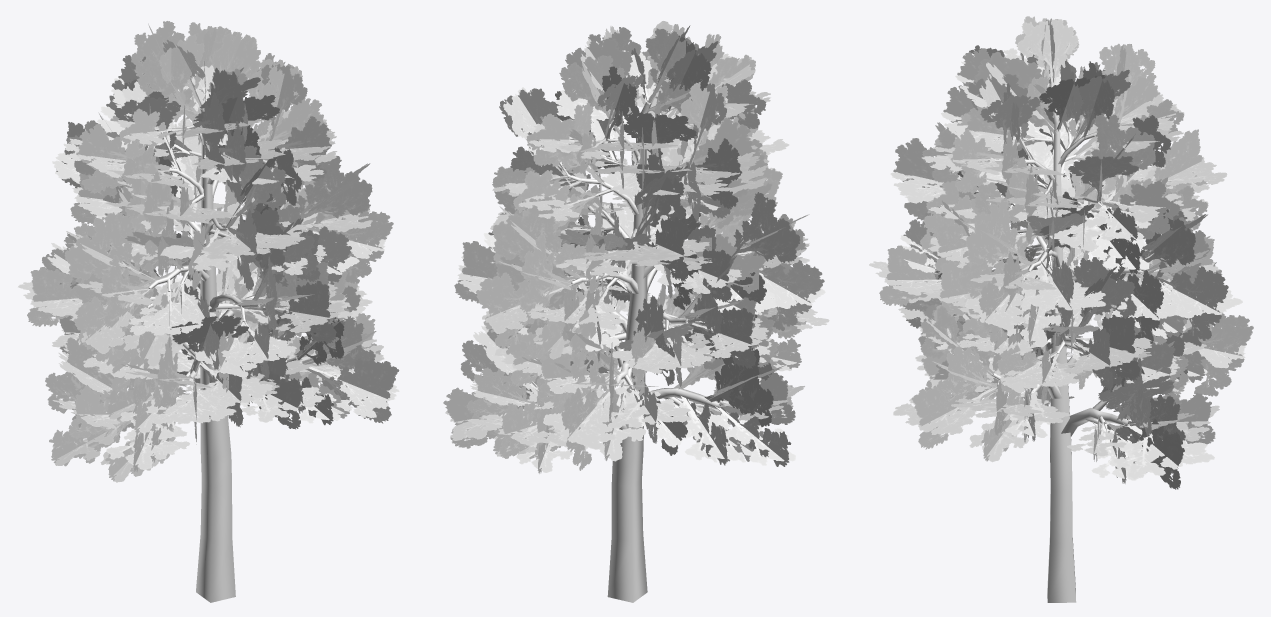
File: Unknown.glb
3 views of the same model, side by side, from view 1: azimuth 30°, elevation 25°; view 2: azimuth 150°, elevation 25°; view 3: azimuth 270°, elevation 25° (orthographic). The views are drawn at different scales.
Visible parts, largest first — view 1: Generic_Unknown__Realistic_LOD3; view 2: Generic_Unknown__Realistic_LOD3; view 3: Generic_Unknown__Realistic_LOD3.
Boxes of the visible parts, x1,y1,x2,y2 form: Generic_Unknown__Realistic_LOD3: (18,21,399,602); Generic_Unknown__Realistic_LOD3: (443,21,829,602); Generic_Unknown__Realistic_LOD3: (869,16,1253,602).
Size of the model in its own units: 11.56 by 19 by 11.96.
1 material, 1 textured.
